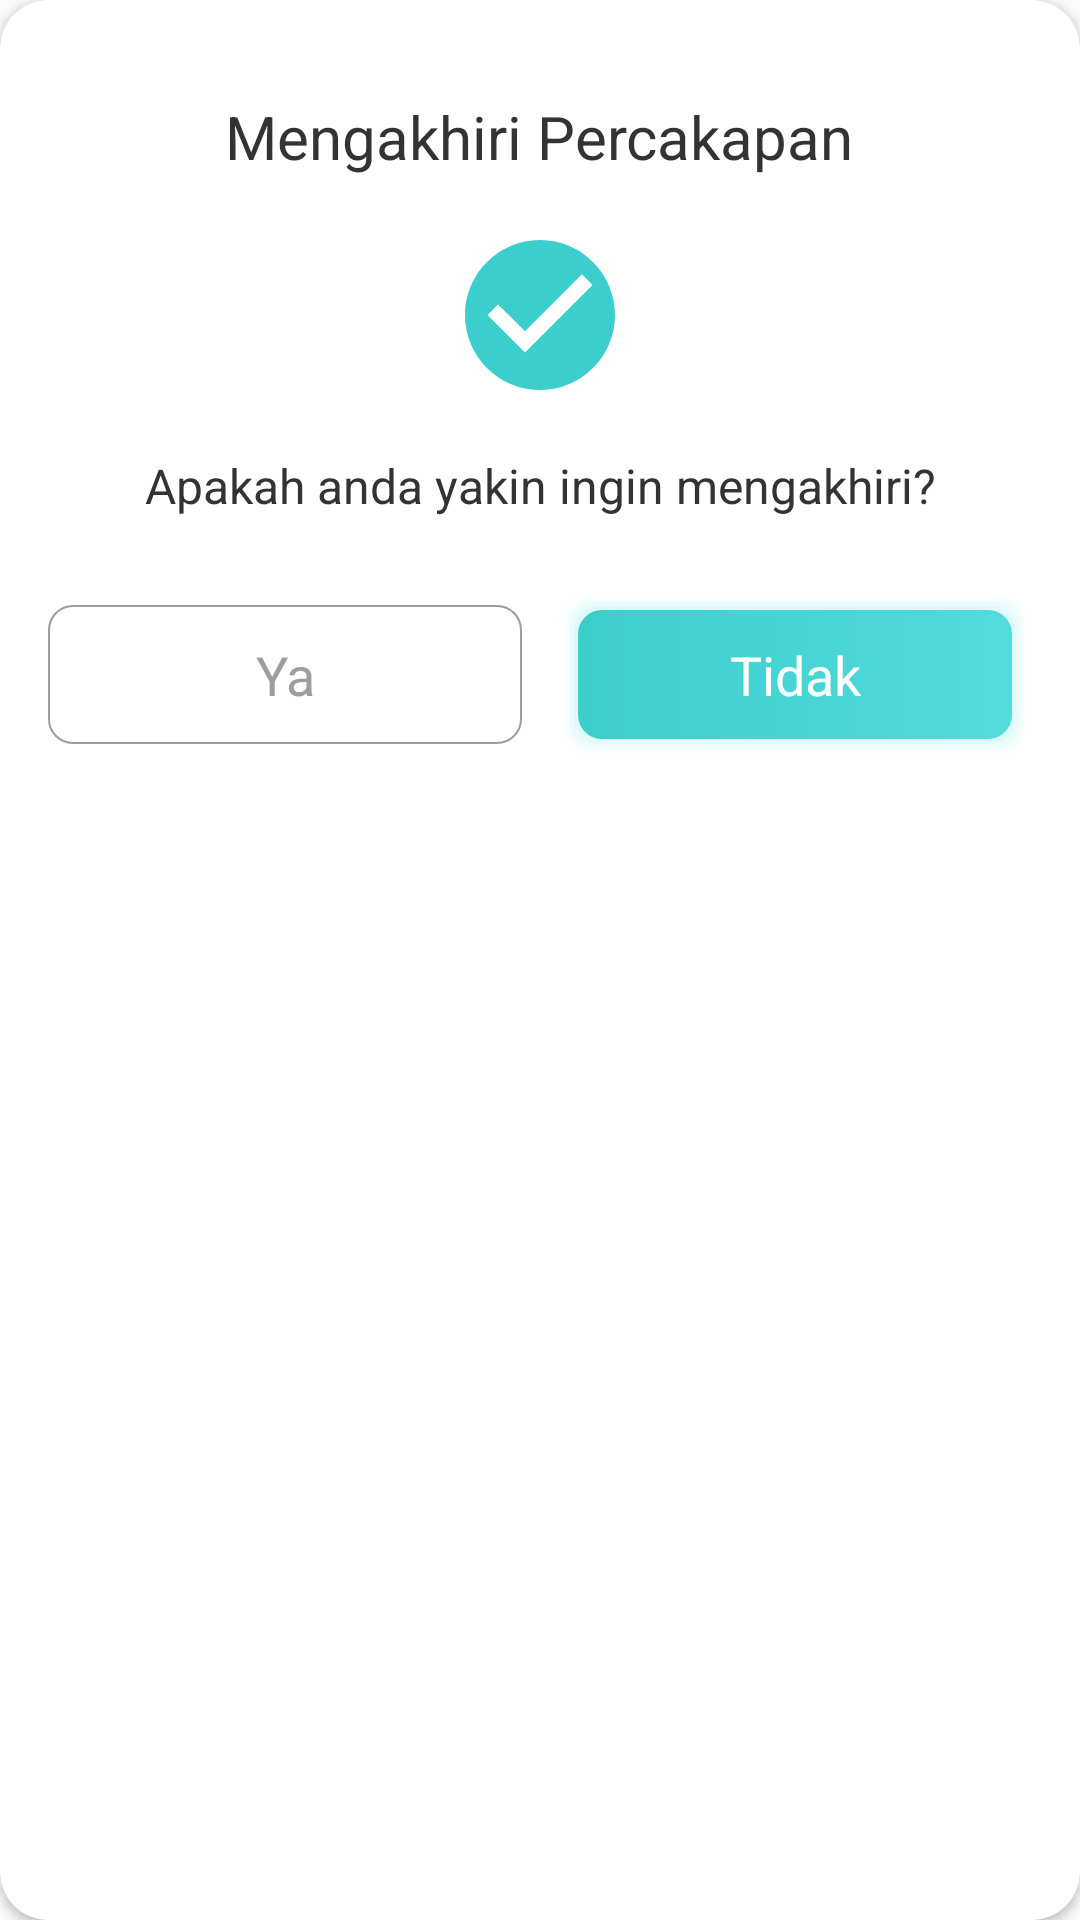

Where icons sit on this 1080px×1920px app screen, as (x1, y1, x2, y2):
check circle: (465, 240, 615, 390)
